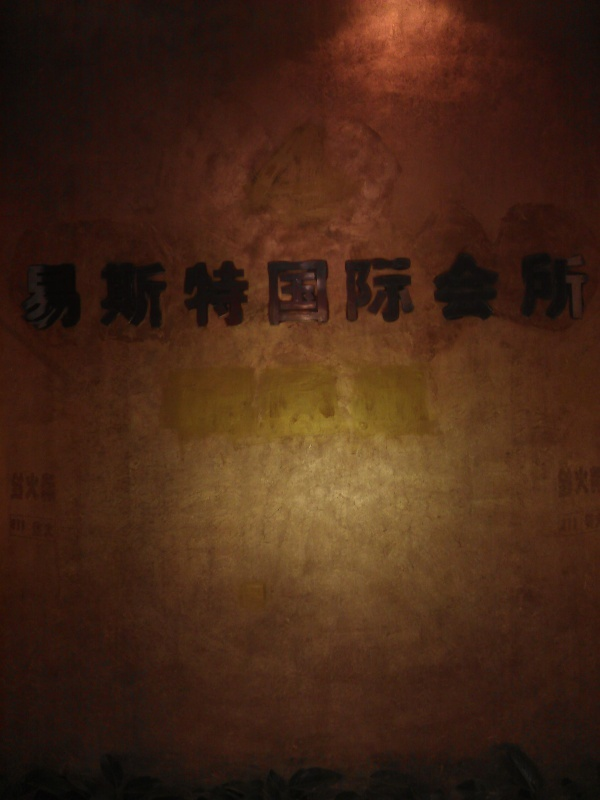text: (33, 250, 48, 329), (49, 250, 64, 329), (65, 250, 80, 329), (81, 250, 96, 329), (97, 250, 112, 329), (113, 250, 128, 329), (129, 250, 144, 329), (145, 250, 160, 329), (161, 250, 176, 329), (177, 250, 192, 329), (193, 250, 208, 329), (209, 250, 224, 329), (225, 250, 240, 329), (241, 250, 256, 329), (257, 250, 272, 329), (273, 250, 288, 329), (289, 250, 304, 329), (305, 250, 320, 329), (321, 250, 336, 329), (337, 250, 352, 329), (353, 250, 368, 329), (369, 250, 384, 329), (385, 250, 400, 329), (401, 250, 416, 329), (417, 250, 432, 329), (433, 250, 448, 329), (449, 250, 464, 329), (465, 250, 480, 329), (481, 250, 496, 329), (497, 250, 512, 329), (513, 250, 528, 329), (529, 250, 544, 329), (545, 250, 560, 329), (561, 250, 576, 329), (577, 250, 589, 329), (21, 250, 32, 329)
